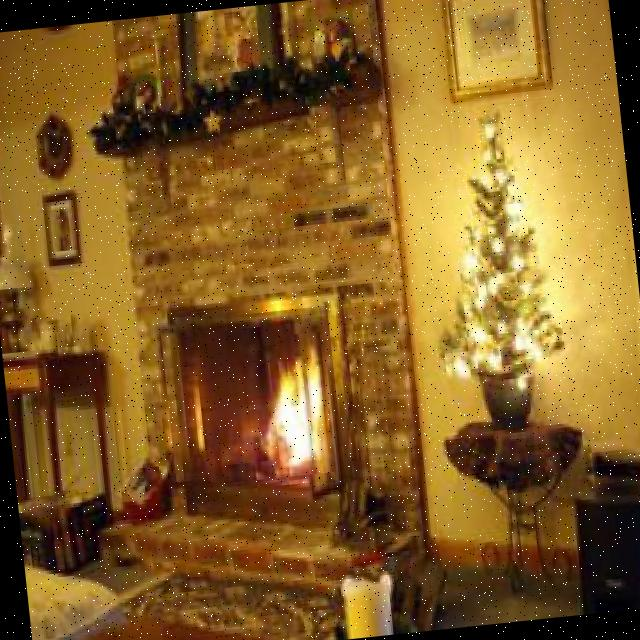fire: (209, 331, 334, 483)
